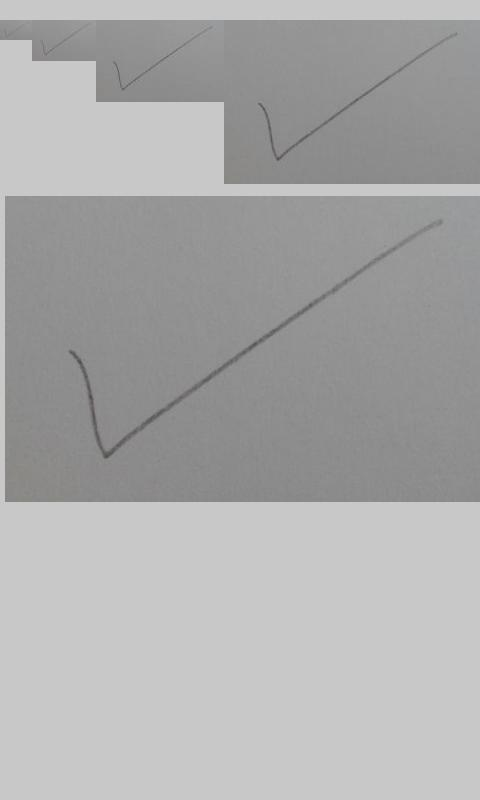check_box: (68, 220, 442, 461), (257, 32, 457, 161), (113, 26, 211, 90), (41, 23, 89, 56), (4, 22, 25, 38)
